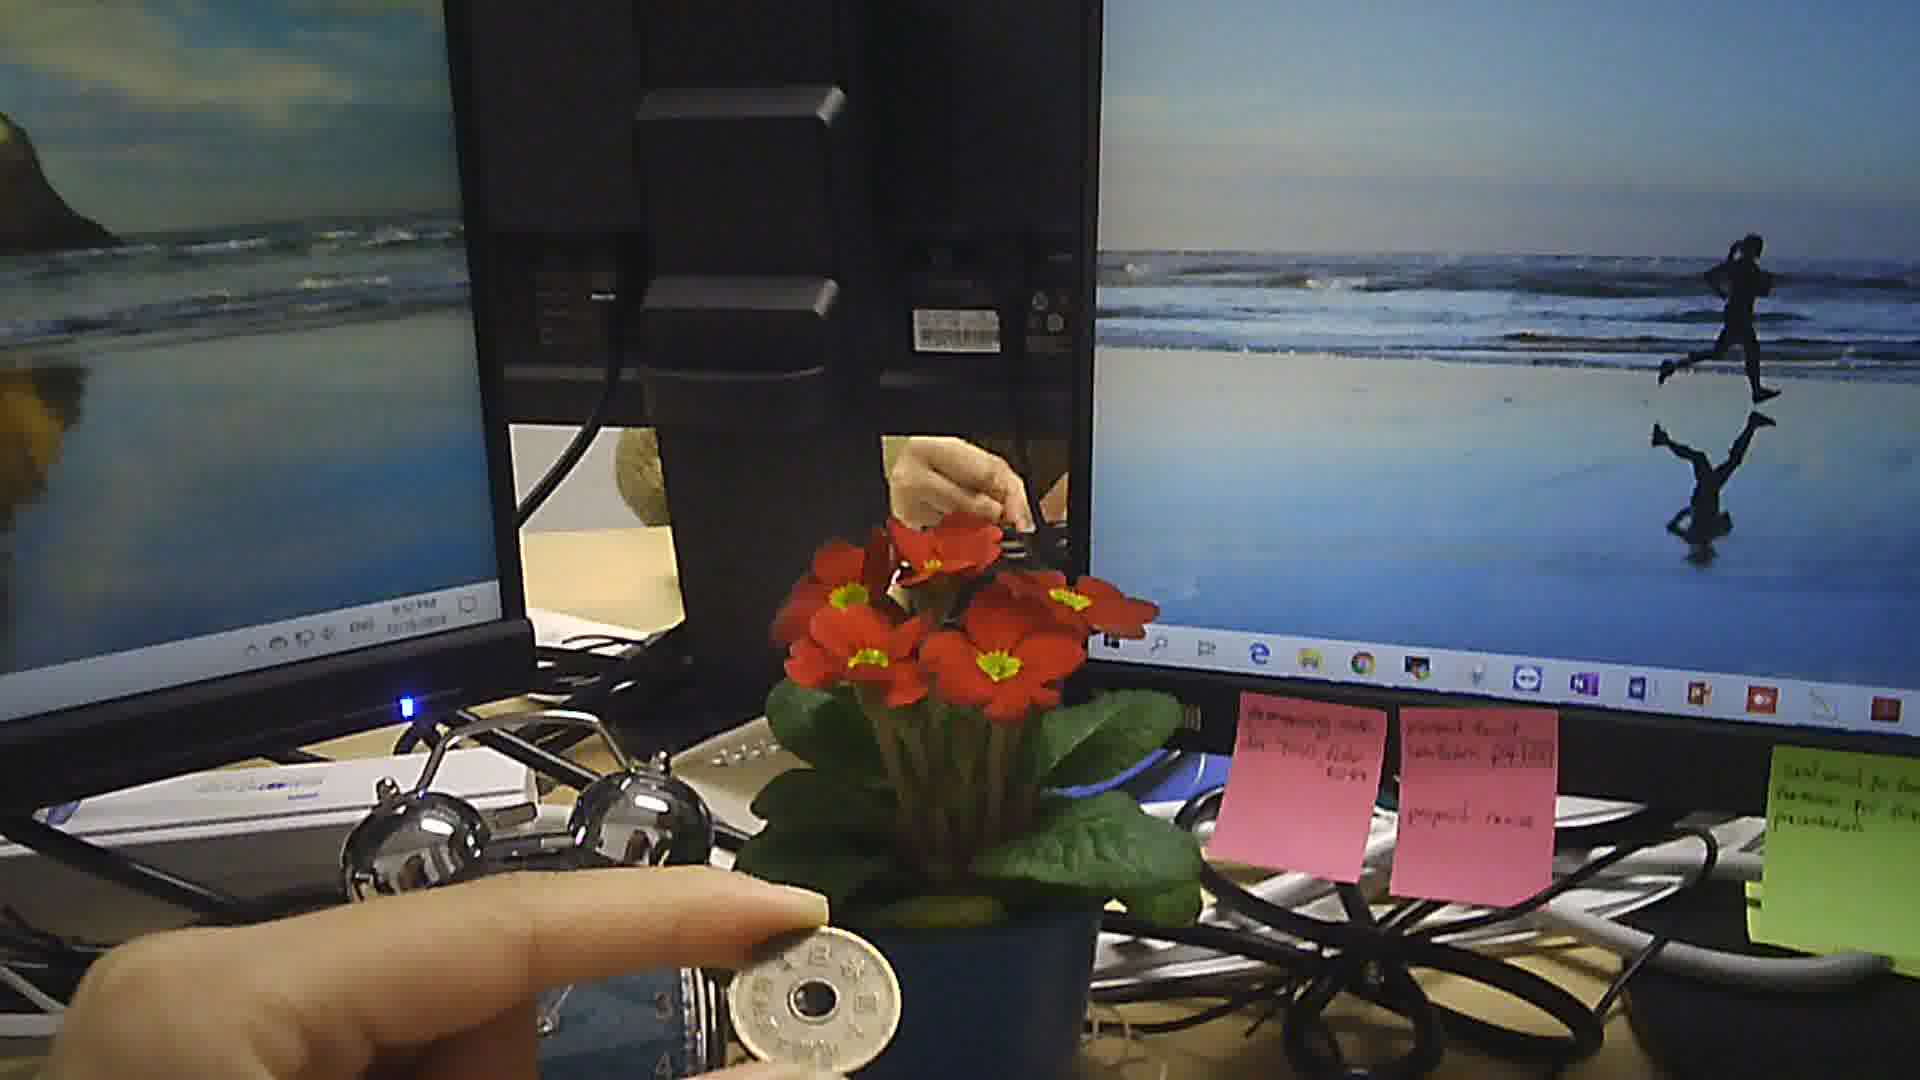5 Yen: (721, 924, 910, 1079)
